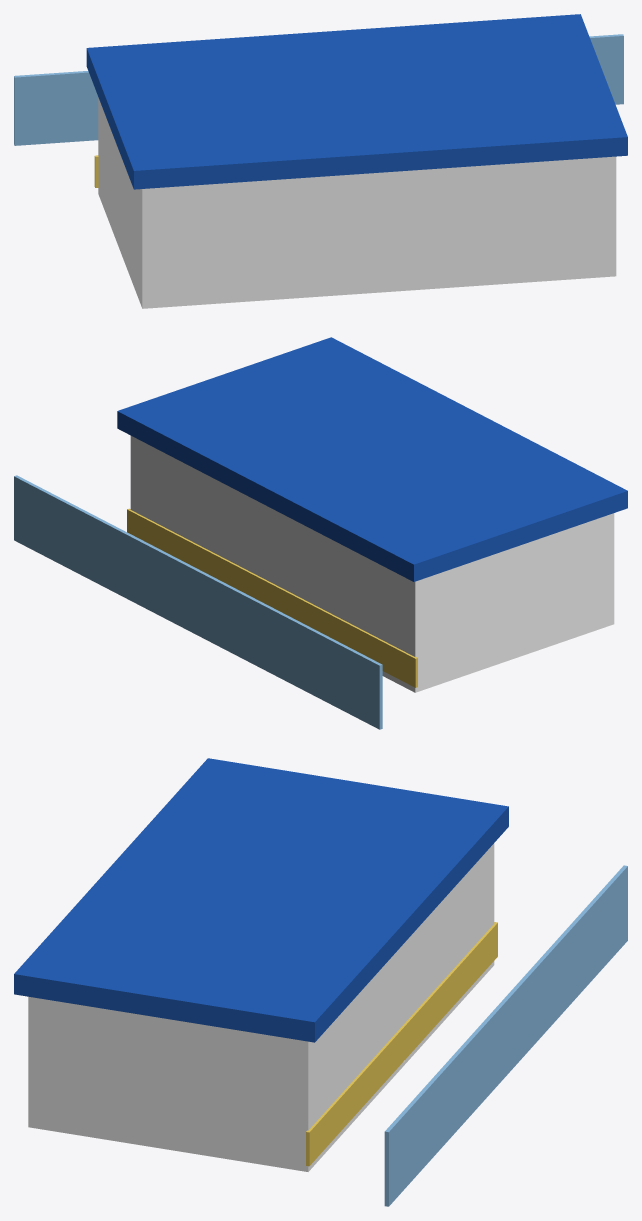
The model's file is r40_bluegates.glb.
The picture shows the model from 3 angles, top to bottom: view 1: azimuth 30°, elevation 25°; view 2: azimuth 150°, elevation 25°; view 3: azimuth 270°, elevation 25°; orthographic projection. The views are drawn at different scales.
Visible parts, largest first — view 1: r40_bluegates_lod0; view 2: r40_bluegates_lod0; view 3: r40_bluegates_lod0.
Part boxes in pixels (x1=…): r40_bluegates_lod0: x1=14, y1=14, x2=627, y2=308; r40_bluegates_lod0: x1=14, y1=337, x2=627, y2=729; r40_bluegates_lod0: x1=14, y1=758, x2=627, y2=1206.
Size of what is drawn, in the model's own units: 19.27 by 4.6 by 16.41.
